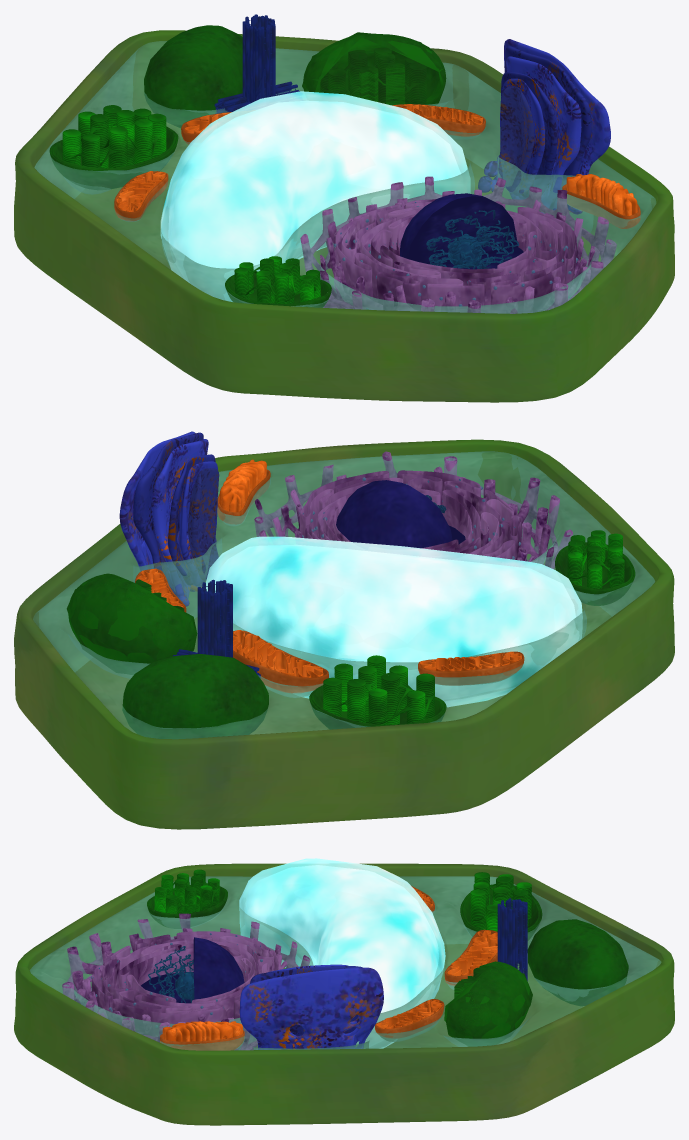
Rendered from plant_cell.glb.
3 renders of one model, top to bottom at view 1: azimuth 30°, elevation 25°; view 2: azimuth 150°, elevation 25°; view 3: azimuth 270°, elevation 25°, orthographic. The views are drawn at different scales.
Parts seen in each view (by area): view 1: Object_2, Object_27, Object_11, Object_21, Object_24, Object_34, Object_3, Object_49, Object_12, Object_4, Object_30, Object_28 (+11 smaller); view 2: Object_2, Object_27, Object_11, Object_3, Object_4, Object_21, Object_34, Object_49, Object_24, Object_40, Object_30, Object_43 (+9 smaller); view 3: Object_2, Object_11, Object_27, Object_10, Object_21, Object_3, Object_4, Object_34, Object_24, Object_49, Object_40, Object_28 (+6 smaller).
Part boxes in pixels (box(x1,y1,x2,y2)): Object_2: box(14, 30, 674, 402); Object_27: box(160, 91, 470, 301); Object_11: box(34, 41, 655, 313); Object_21: box(335, 199, 576, 313); Object_24: box(300, 176, 616, 313); Object_34: box(62, 105, 320, 303); Object_3: box(144, 25, 242, 127); Object_49: box(400, 193, 523, 269); Object_12: box(320, 48, 426, 105); Object_4: box(302, 32, 446, 105); Object_30: box(49, 126, 331, 307); Object_28: box(214, 14, 300, 113); Object_2: box(14, 439, 674, 829); Object_27: box(206, 536, 582, 707); Object_11: box(33, 451, 655, 738); Object_3: box(122, 654, 268, 739); Object_4: box(66, 573, 197, 674); Object_21: box(299, 470, 522, 559); Object_34: box(323, 530, 624, 724); Object_49: box(336, 480, 465, 548); Object_24: box(254, 451, 572, 569); Object_40: box(137, 568, 521, 677); Object_30: box(309, 542, 635, 729); Object_43: box(135, 569, 524, 693); Object_2: box(14, 863, 674, 1125); Object_11: box(29, 876, 661, 1050); Object_27: box(239, 858, 445, 1048); Object_10: box(239, 967, 383, 1049); Object_21: box(91, 931, 278, 1049); Object_3: box(527, 919, 628, 1006); Object_4: box(444, 961, 532, 1046); Object_34: box(154, 869, 531, 931); Object_24: box(62, 913, 310, 1050); Object_49: box(141, 937, 244, 1003); Object_40: box(376, 888, 497, 1028); Object_28: box(497, 898, 527, 980).
Bounding box in the file's own units: 0.3126 × 0.1076 × 0.45.
24 materials, 24 textured.
